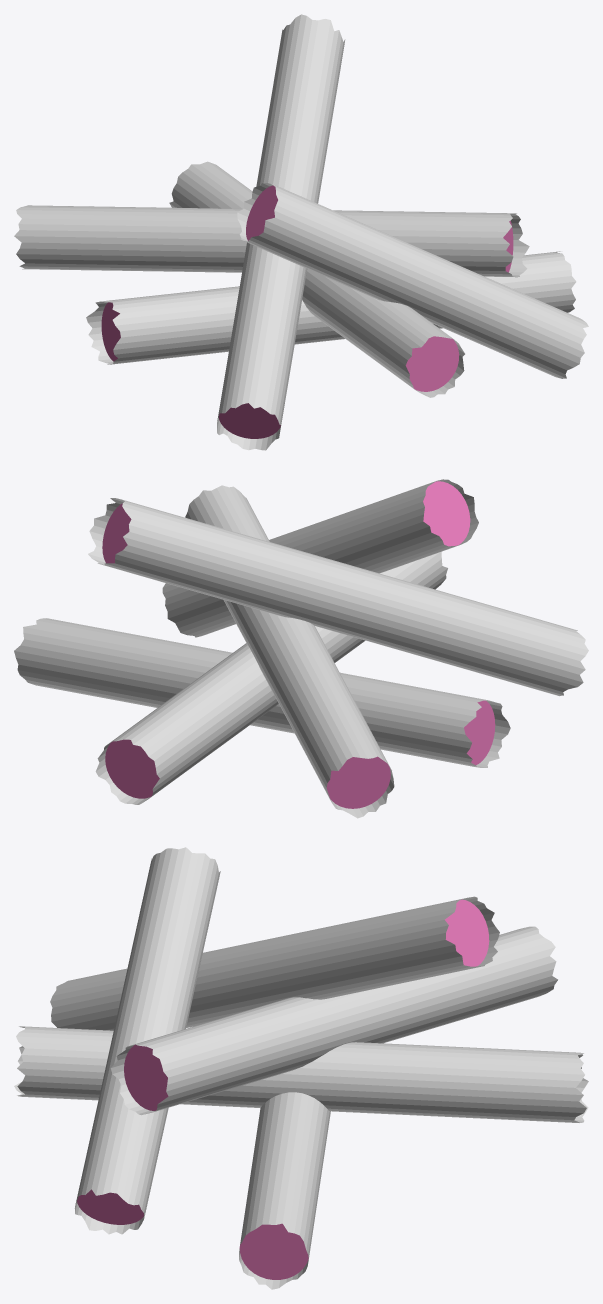
File: Woodlille.fbx
The picture shows the model from 3 angles, top to bottom: view 1: azimuth 30°, elevation 25°; view 2: azimuth 150°, elevation 25°; view 3: azimuth 270°, elevation 25°; orthographic projection. The views are drawn at different scales.
Visible parts, largest first — view 1: Cylinder.001, Cylinder.004, Cylinder.002, Cylinder.000, Cylinder.003; view 2: Cylinder.001, Cylinder.000, Cylinder.002, Cylinder.003, Cylinder.004; view 3: Cylinder.002, Cylinder.003, Cylinder.001, Cylinder.004, Cylinder.000.
Boxes of the visible parts, bbox=[...] form: Cylinder.001: bbox=[217, 14, 345, 450]; Cylinder.004: bbox=[237, 183, 588, 378]; Cylinder.002: bbox=[14, 205, 529, 277]; Cylinder.000: bbox=[86, 251, 576, 364]; Cylinder.003: bbox=[169, 161, 464, 397]; Cylinder.001: bbox=[88, 498, 588, 696]; Cylinder.000: bbox=[14, 618, 510, 767]; Cylinder.002: bbox=[185, 485, 394, 818]; Cylinder.003: bbox=[95, 551, 447, 804]; Cylinder.004: bbox=[162, 479, 478, 637]; Cylinder.002: bbox=[110, 926, 557, 1115]; Cylinder.003: bbox=[14, 1026, 588, 1122]; Cylinder.001: bbox=[50, 896, 499, 1030]; Cylinder.004: bbox=[74, 847, 220, 1234]; Cylinder.000: bbox=[239, 1092, 330, 1289].
Bounding box in the file's own units: 819 × 472 × 816.
